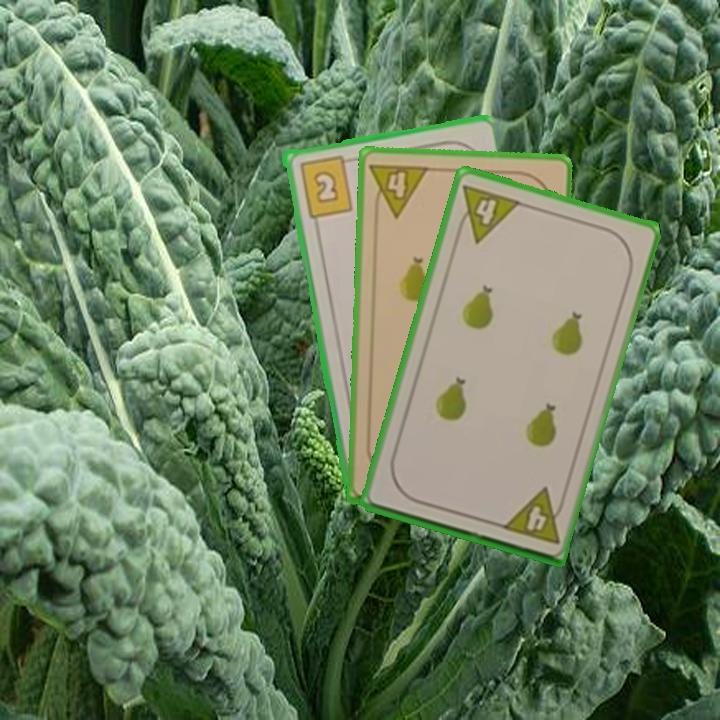2b: (295, 152, 356, 220)
4p: (451, 180, 524, 246), (498, 484, 569, 547), (366, 159, 432, 220)
